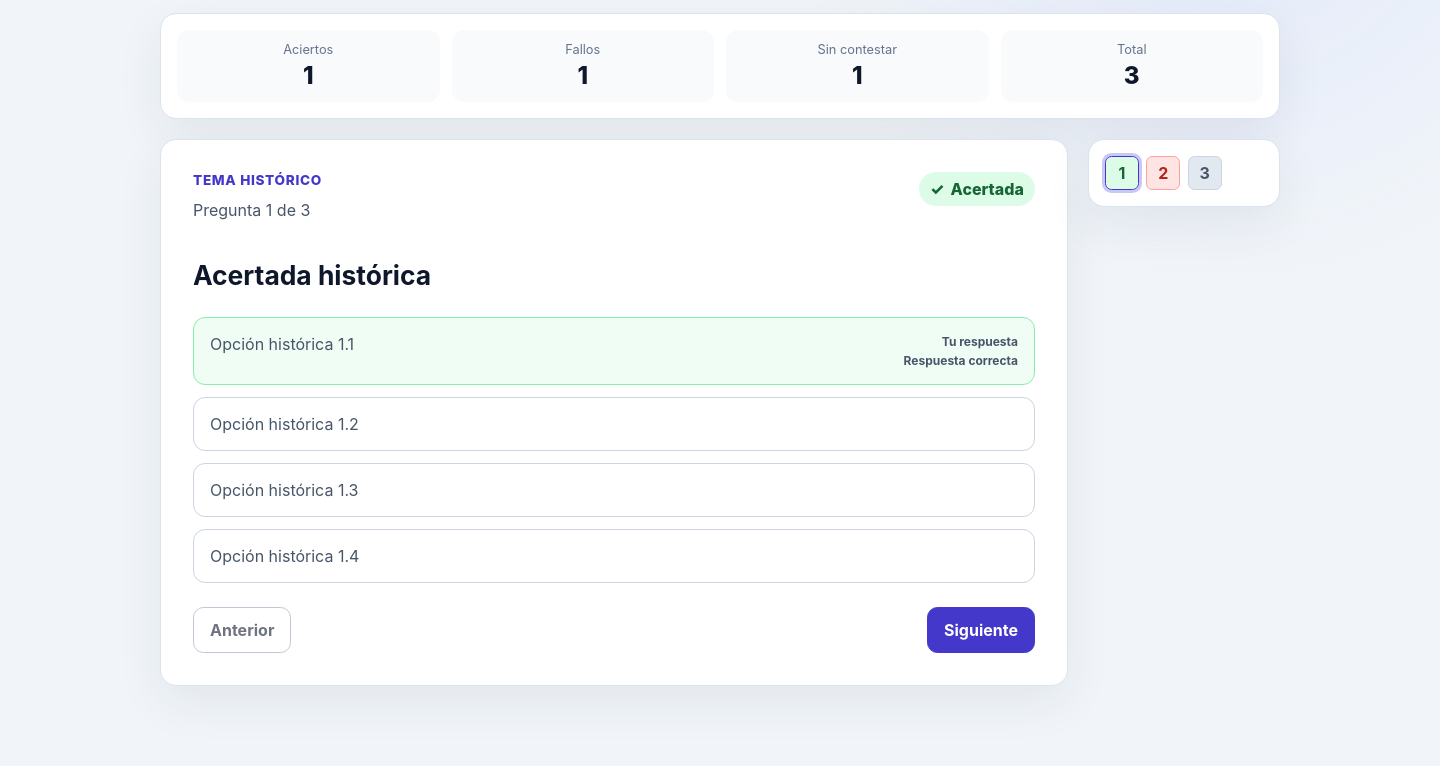
AttemptDetailPage › navigates and clearly distinguishes incorrect and unanswered questions
(page scrolled)
Expected: the heading "Acertada histórica" is shown, top-left (193, 259), bottom-right (431, 291)
Click the button "Siguiente" at (981, 630), box top-left (927, 607), bottom-right (1035, 653)
(page scrolled)
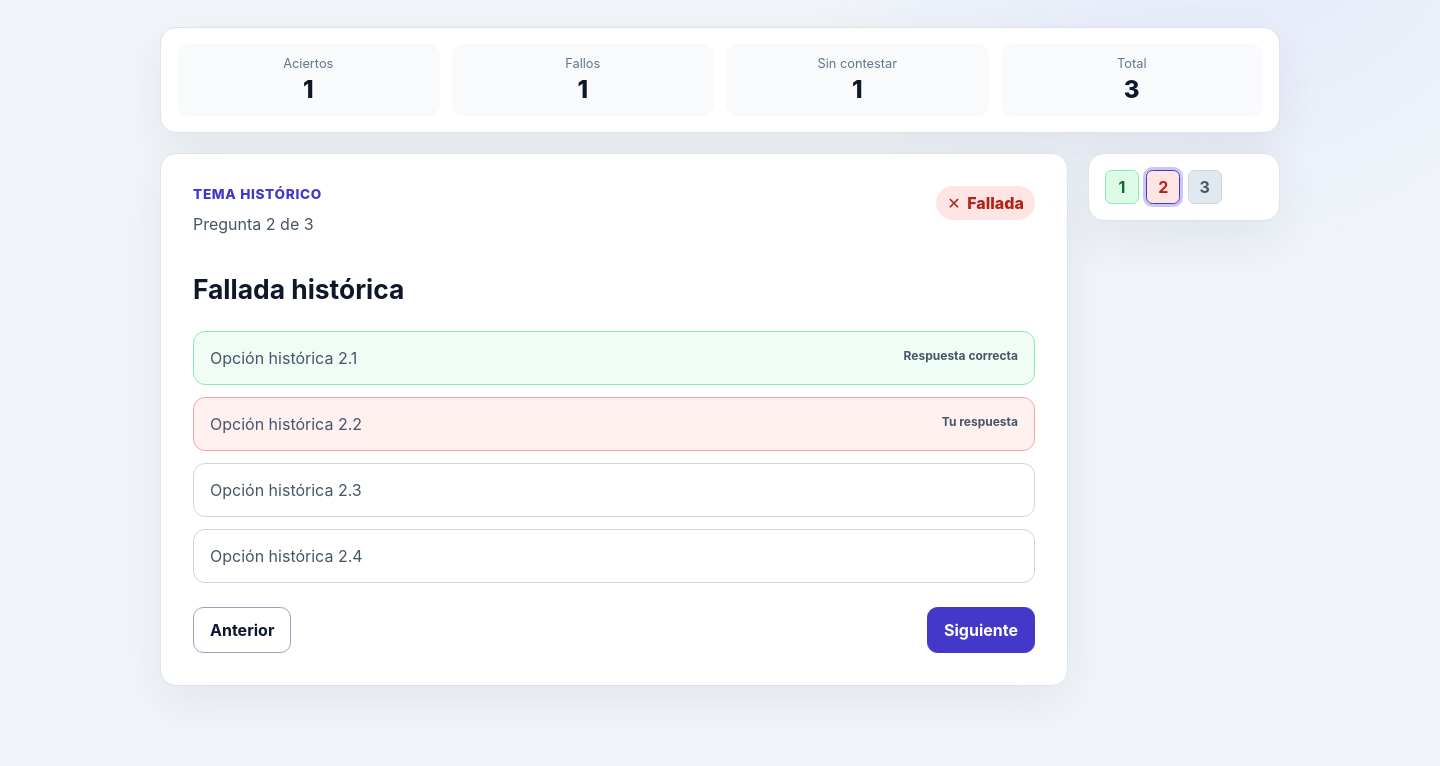
Expected: the heading "Fallada histórica" is shown, top-left (193, 273), bottom-right (404, 305)
Expected: the text "Fallada" is shown, top-left (967, 193), bottom-right (1024, 213)
Expected: the list item "Opción histórica 2.2" shows "Tu respuesta", top-left (942, 414), bottom-right (1018, 429)
Click the button named "Pregunta 3: Sin contestar" at (1205, 187), box top-left (1188, 170), bottom-right (1222, 204)
(page scrolled)
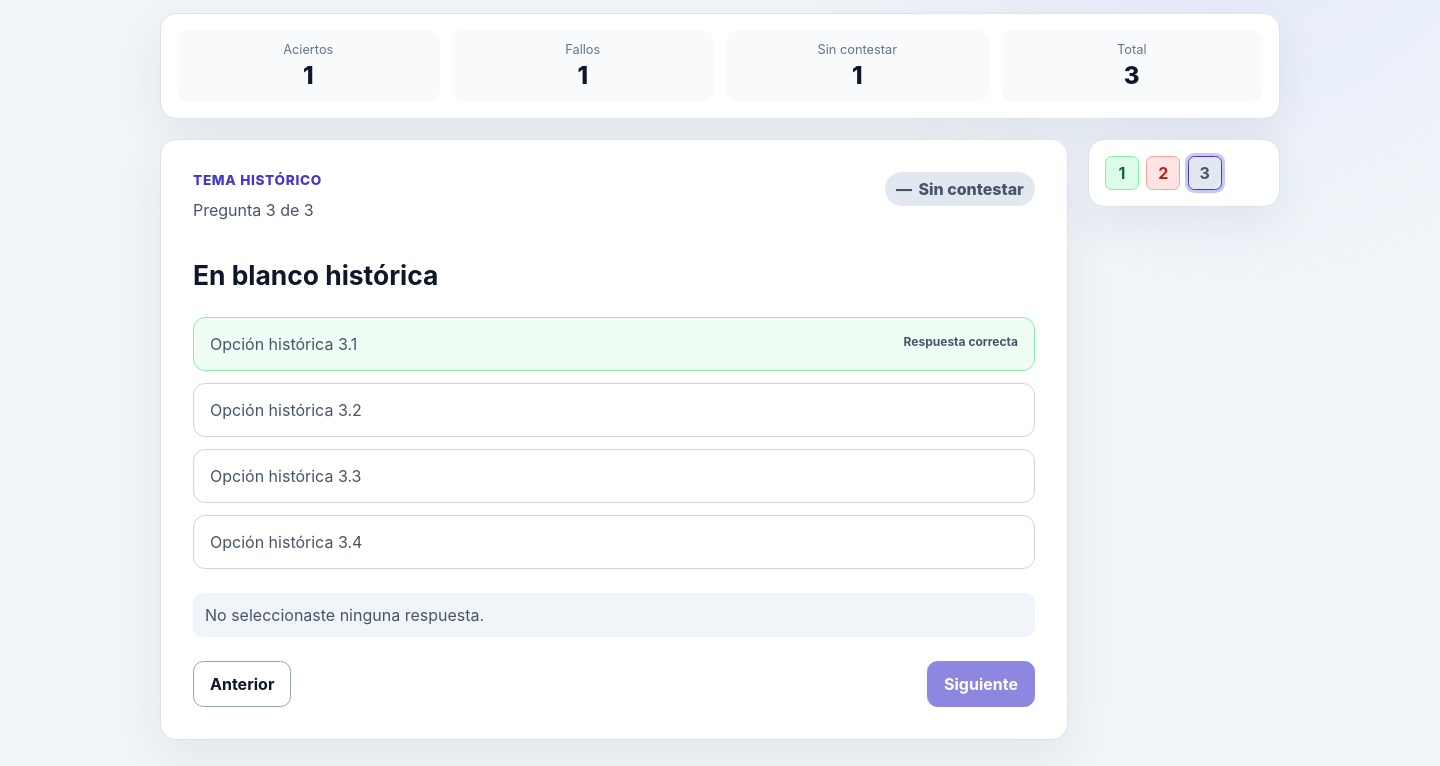
Expected: the text "Sin contestar" is shown 2 times, top-left (818, 42), bottom-right (897, 57); top-left (885, 172), bottom-right (1035, 206)
Expected: the heading "En blanco histórica" is shown, top-left (193, 259), bottom-right (438, 291)
Expected: the text "No seleccionaste ninguna respuesta." is shown, top-left (193, 593), bottom-right (1035, 637)
